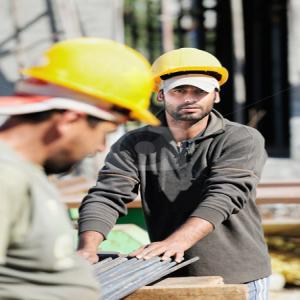yellow: (29, 43, 151, 170), (151, 48, 224, 123)
